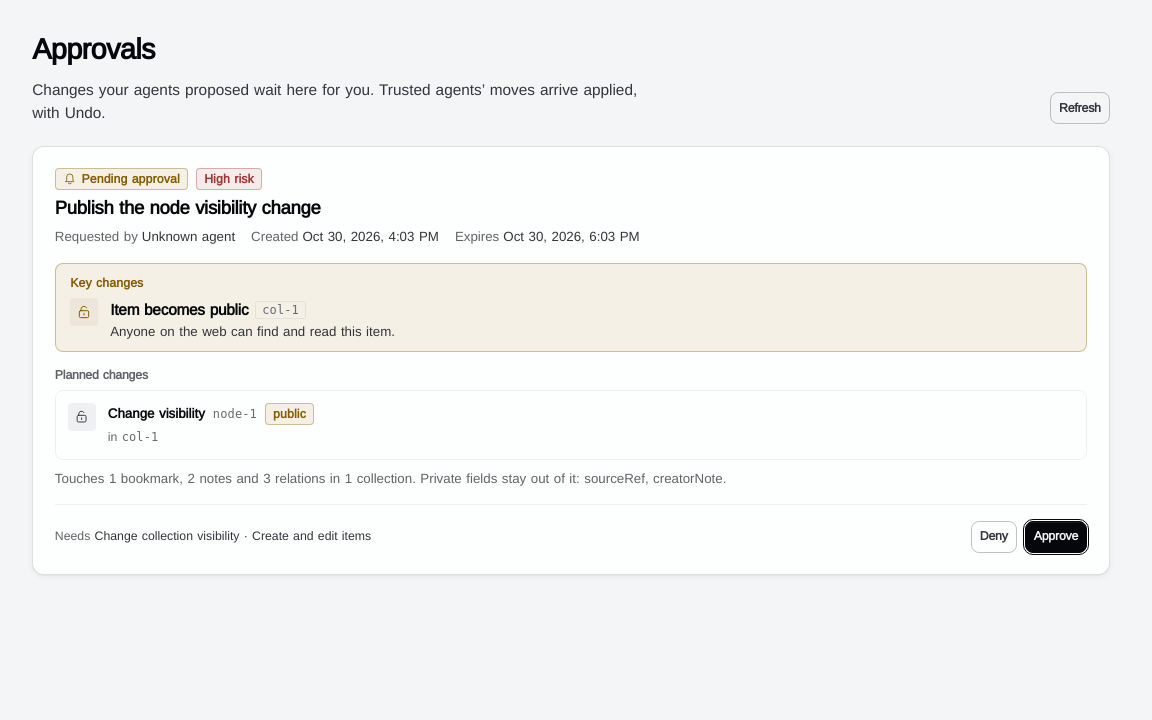
Test case: MCP-W08 Write approvals page › approves with CSRF-aware client options and keyboard activation
Press Enter in the button "Approve", box [1025,521,1087,553]
Click the button "Approve" at (1056, 537), box [1025,521,1087,553]
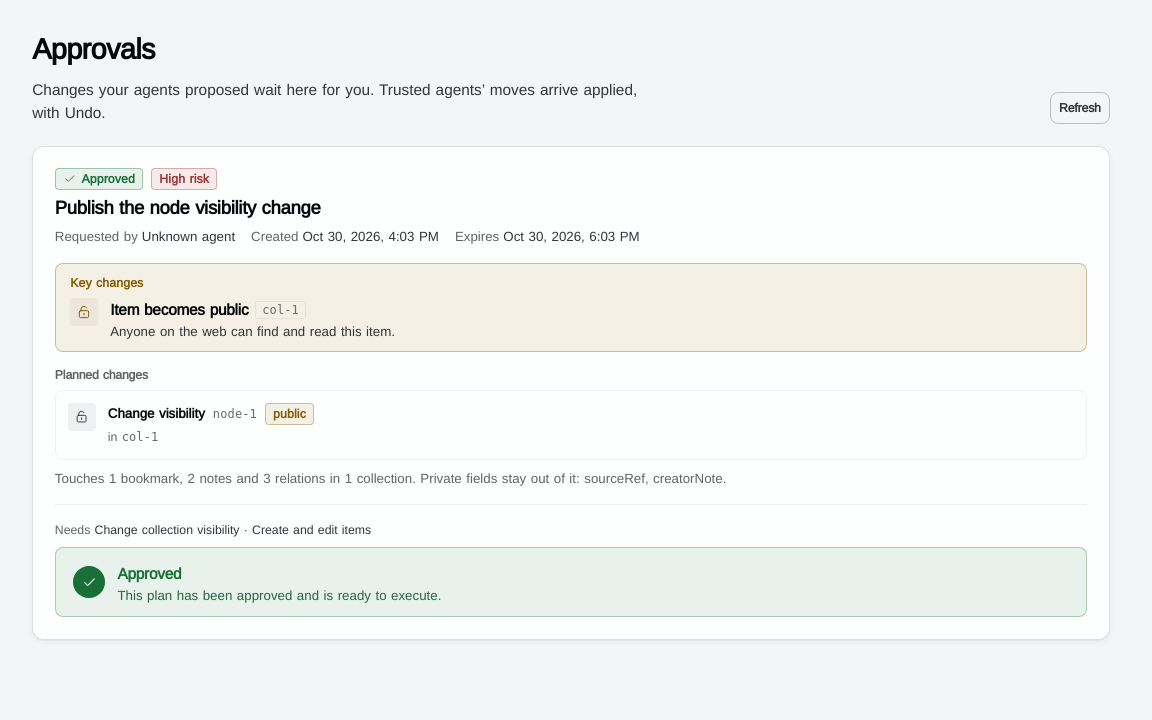
Expected: the text "Approved" is shown, [55,168,143,190]
